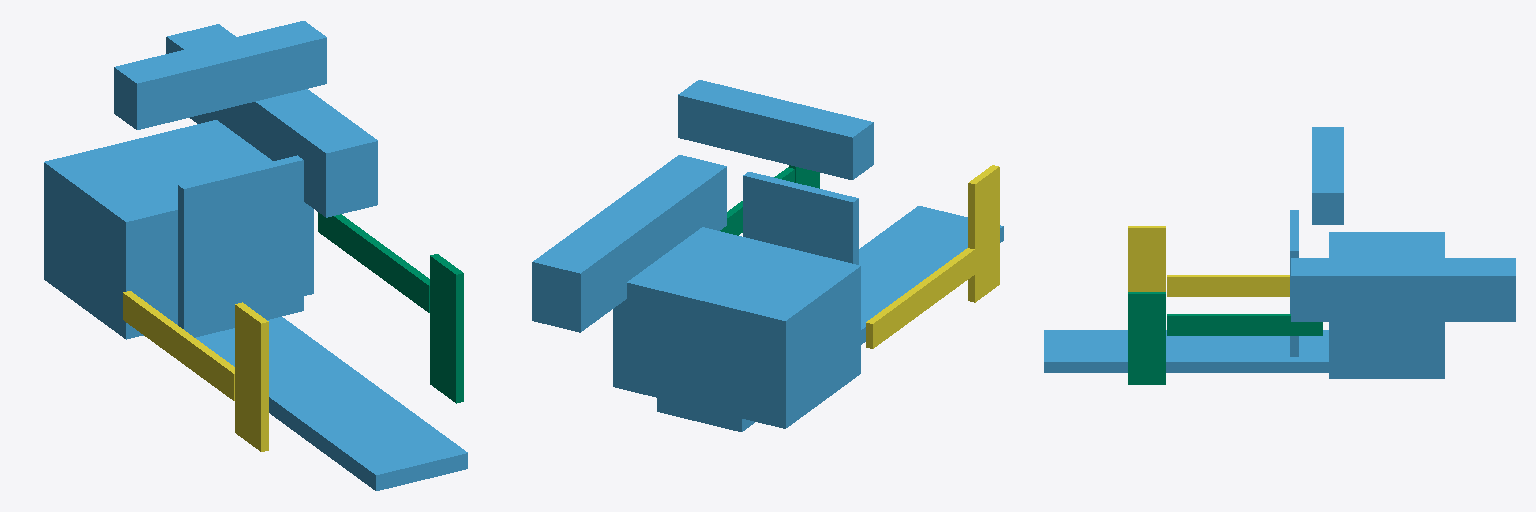
The robot description file, URDF, robot "egu50_air_cylinder":
<?xml version="1.0"?>
<robot name="egu50_air_cylinder">
  <link name="gripper_base" />
  <link name="gripper_body">
    <inertial>
      <origin xyz="0.0026128 -0.1053171 -0.0104483" rpy="0.0 -0.0 0.0" />
      <mass value="1.49" />
      <inertia ixx="0.0082277" ixy="0.0008049" ixz="2.19e-05" iyy="0.0023777" iyz="-9.7e-05" izz="0.0094396" />
    </inertial>
    <visual name="body">
      <origin xyz="0.0 -0.0465 0.0" rpy="0.0 -0.0 0.0" />
      <geometry>
        <mesh filename="meshes/body.obj" />
      </geometry>
    </visual>
    <visual name="plate">
      <origin xyz="0.0 -0.1605 -0.041" rpy="0.0 -0.0 0.0" />
      <geometry>
        <mesh filename="meshes/plate.obj" />
      </geometry>
    </visual>
    <visual name="d455">
      <origin xyz="0.0 -0.0937 0.11383" rpy="0.0 -0.0 0.0" />
      <geometry>
        <mesh filename="meshes/d455.obj" />
      </geometry>
    </visual>
    <visual name="air_cylinder_plate">
      <origin xyz="0.00011638004786032098 8.624109061026055e-09 6.175002579473658e-05" rpy="1.5703387269650668 1.9463877424824333e-07 0.0008624100012266484" />
      <geometry>
        <mesh filename="meshes/air_cylinder_plate.obj" />
      </geometry>
    </visual>
    <visual name="air_cylinder_body">
      <origin xyz="0.00011638004786032098 8.624109061026055e-09 6.175002579473658e-05" rpy="1.5703387269650668 1.9463877424824333e-07 0.0008624100012266484" />
      <geometry>
        <mesh filename="meshes/air_cylinder_body.obj" />
      </geometry>
    </visual>
    <collision name="body">
      <origin xyz="0.0 -0.0465 0.0" rpy="0.0 -0.0 0.0" />
      <geometry>
        <mesh filename="meshes/body.obj" />
      </geometry>
    </collision>
    <collision name="plate">
      <origin xyz="0.0 -0.1605 -0.041" rpy="0.0 -0.0 0.0" />
      <geometry>
        <mesh filename="meshes/plate.obj" />
      </geometry>
    </collision>
    <collision name="d455">
      <origin xyz="0.0 -0.0937 0.11383" rpy="0.0 -0.0 0.0" />
      <geometry>
        <mesh filename="meshes/d455.obj" />
      </geometry>
    </collision>
    <collision name="air_cylinder_plate">
      <origin xyz="0.00011638004786032098 8.624109061026055e-09 6.175002579473658e-05" rpy="1.5703387269650668 1.9463877424824333e-07 0.0008624100012266484" />
      <geometry>
        <mesh filename="meshes/air_cylinder_plate.obj" />
      </geometry>
    </collision>
    <collision name="air_cylinder_body">
      <origin xyz="0.00011638004786032098 8.624109061026055e-09 6.175002579473658e-05" rpy="1.5703387269650668 1.9463877424824333e-07 0.0008624100012266484" />
      <geometry>
        <mesh filename="meshes/air_cylinder_body.obj" />
      </geometry>
    </collision>
  </link>
  <link name="right_gripper">
    <visual name="right_gripper_0">
      <geometry>
        <mesh filename="meshes/right_gripper_0.obj" />
      </geometry>
    </visual>
    <visual name="right_gripper_1">
      <geometry>
        <mesh filename="meshes/right_gripper_1.obj" />
      </geometry>
    </visual>
    <collision name="right_gripper_0">
      <geometry>
        <mesh filename="meshes/right_gripper_0.obj" />
      </geometry>
    </collision>
    <collision name="right_gripper_1">
      <geometry>
        <mesh filename="meshes/right_gripper_1.obj" />
      </geometry>
    </collision>
  </link>
  <link name="left_gripper">
    <visual name="left_gripper_0">
      <geometry>
        <mesh filename="meshes/left_gripper_0.obj" />
      </geometry>
    </visual>
    <visual name="left_gripper_1">
      <geometry>
        <mesh filename="meshes/left_gripper_1.obj" />
      </geometry>
    </visual>
    <collision name="left_gripper_0">
      <geometry>
        <mesh filename="meshes/left_gripper_0.obj" />
      </geometry>
    </collision>
    <collision name="left_gripper_1">
      <geometry>
        <mesh filename="meshes/left_gripper_1.obj" />
      </geometry>
    </collision>
  </link>
  <joint name="gripper_fixed" type="fixed">
    <parent link="gripper_base" />
    <child link="gripper_body" />
  </joint>
  <joint name="right_gripper_joint" type="prismatic">
    <origin xyz="0.02614 -0.0880107 0.02911" rpy="0.0 -0.0 -1.5707964" />
    <parent link="gripper_body" />
    <child link="right_gripper" />
    <axis xyz="0.0 1.0 0.0" />
    <limit lower="0.00985" upper="0.06085" effort="100.0" velocity="0.1" />
  </joint>
  <joint name="left_gripper_joint" type="prismatic">
    <origin xyz="-0.0261453 -0.0880107 -0.029113" rpy="-3.1415926071795868 -0.0 -1.5707964" />
    <parent link="gripper_body" />
    <child link="left_gripper" />
    <axis xyz="0.0 1.0 0.0" />
    <limit lower="0.00985" upper="0.06085" effort="100.0" velocity="0.1" />
  </joint>
</robot>

--- What the picture shows (computed from the rendered views, not written in the file) ---
3 views of the same robot in one strip: view 1: azimuth 30°, elevation 25°; view 2: azimuth 150°, elevation 25°; view 3: azimuth 270°, elevation 25° (orthographic).
Robot: egu50_air_cylinder — 4 links, 3 joints (2 prismatic, 1 fixed); root link gripper_base; default pose: all joints at 0 but 2 set to mid-range because 0 is outside their limits (right_gripper_joint = 0.0353, left_gripper_joint = 0.0353).
Visible links, largest first — view 1: gripper_body, left_gripper, right_gripper; view 2: gripper_body, left_gripper, right_gripper; view 3: gripper_body, right_gripper, left_gripper.
Link boxes in pixels (x1,y1,x2,y2): gripper_body: [44, 21, 467, 490]; left_gripper: [123, 291, 268, 451]; right_gripper: [318, 212, 463, 403]; gripper_body: [532, 80, 1003, 431]; left_gripper: [866, 165, 999, 348]; right_gripper: [720, 165, 819, 235]; gripper_body: [1044, 127, 1515, 378]; right_gripper: [1128, 292, 1322, 384]; left_gripper: [1128, 226, 1289, 296].
Size in the robot's own frame: 0.1517 by 0.3775 by 0.1743 metres.
Meshes: 9 distinct files referenced, 9 mesh visuals loaded (9 OBJ).
